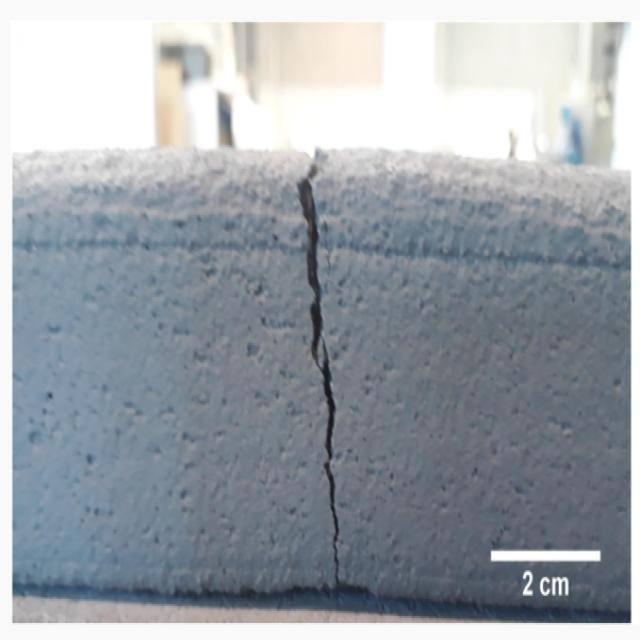cracks: (281, 111, 378, 601)
